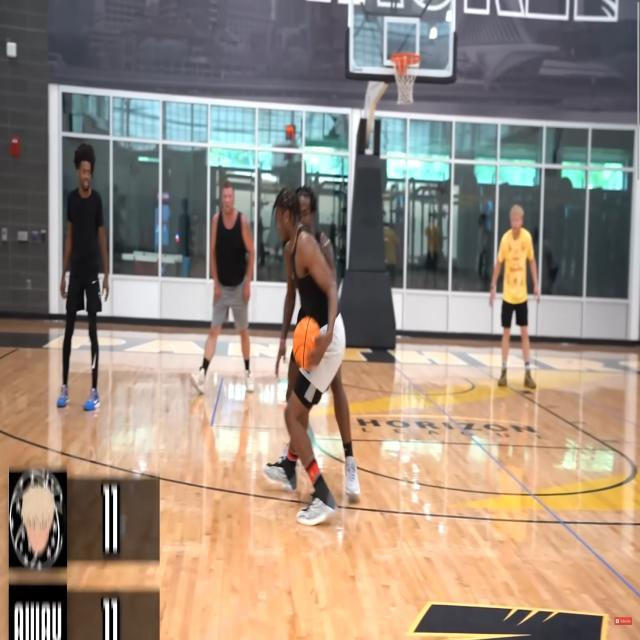Basketball: (293, 317, 321, 368)
Basketball Rim: (391, 52, 421, 106)
